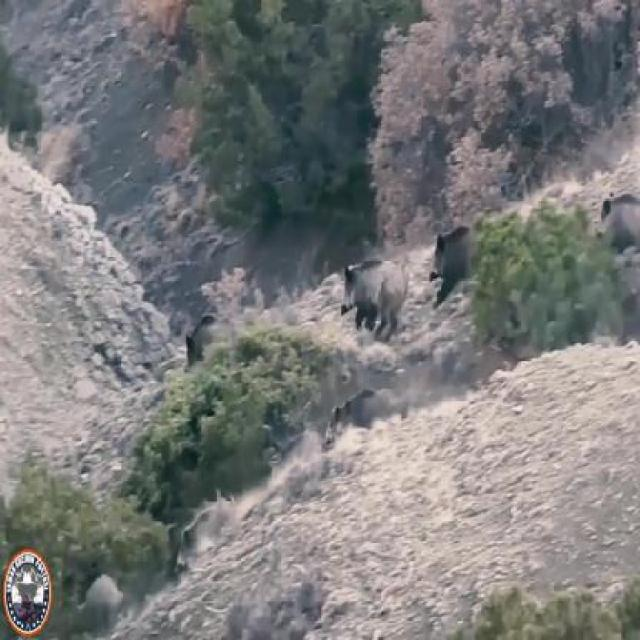Boar: (326, 232, 426, 350), (425, 207, 489, 316), (592, 168, 640, 248)
